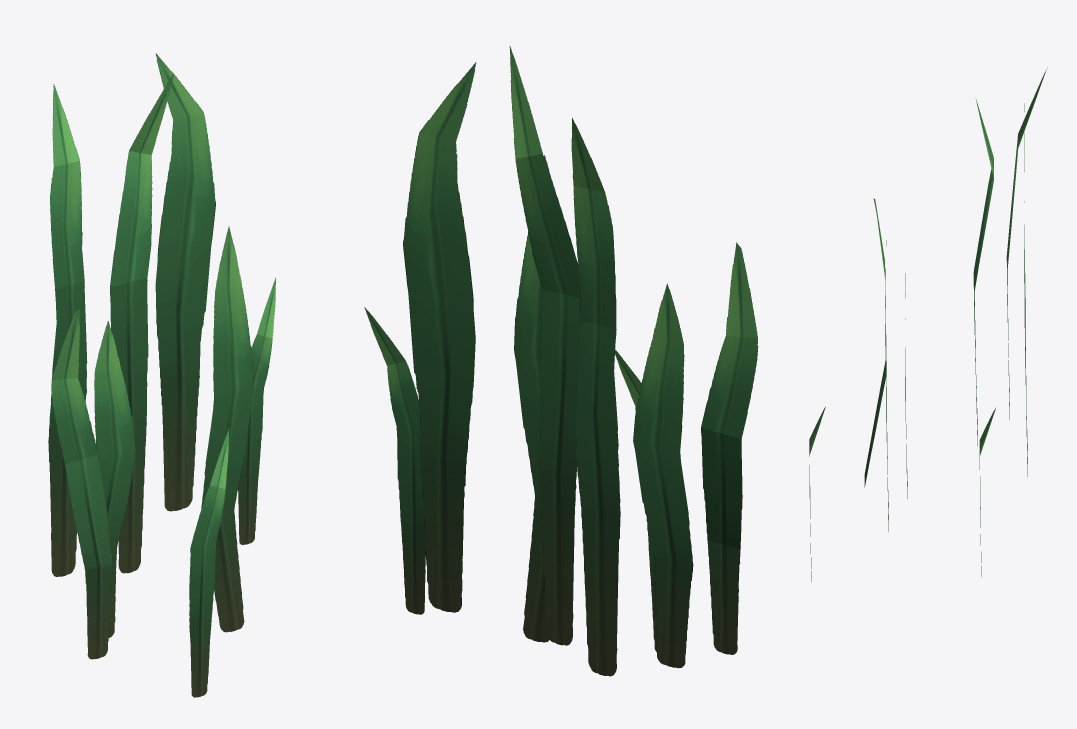
The model's file is green grass 2.fbx.
The picture shows the model from 3 angles, left to right: view 1: azimuth 30°, elevation 25°; view 2: azimuth 150°, elevation 25°; view 3: azimuth 270°, elevation 25°; orthographic projection. The views are drawn at different scales.
Visible parts, largest first — view 1: Grass green 2; view 2: Grass green 2; view 3: Grass green 2.
Boxes of the visible parts, left/top/right/bottom form: Grass green 2: left=48, top=53, right=275, bottom=697; Grass green 2: left=364, top=46, right=758, bottom=676; Grass green 2: left=809, top=67, right=1047, bottom=581.
Bounding box in the file's own units: 54.8 × 97.88 × 35.17.
